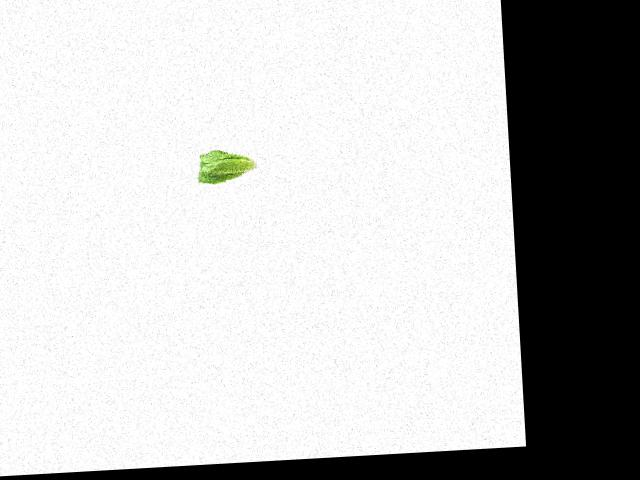lettuce: (193, 142, 260, 189)
